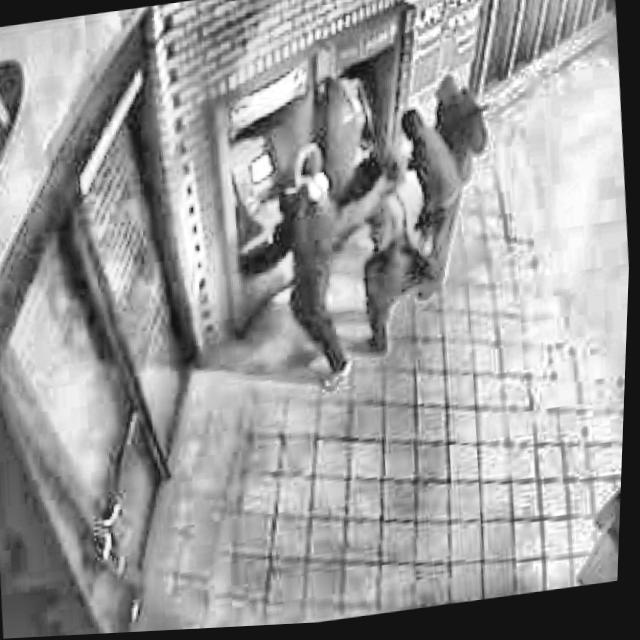burglary: (213, 35, 512, 398)
